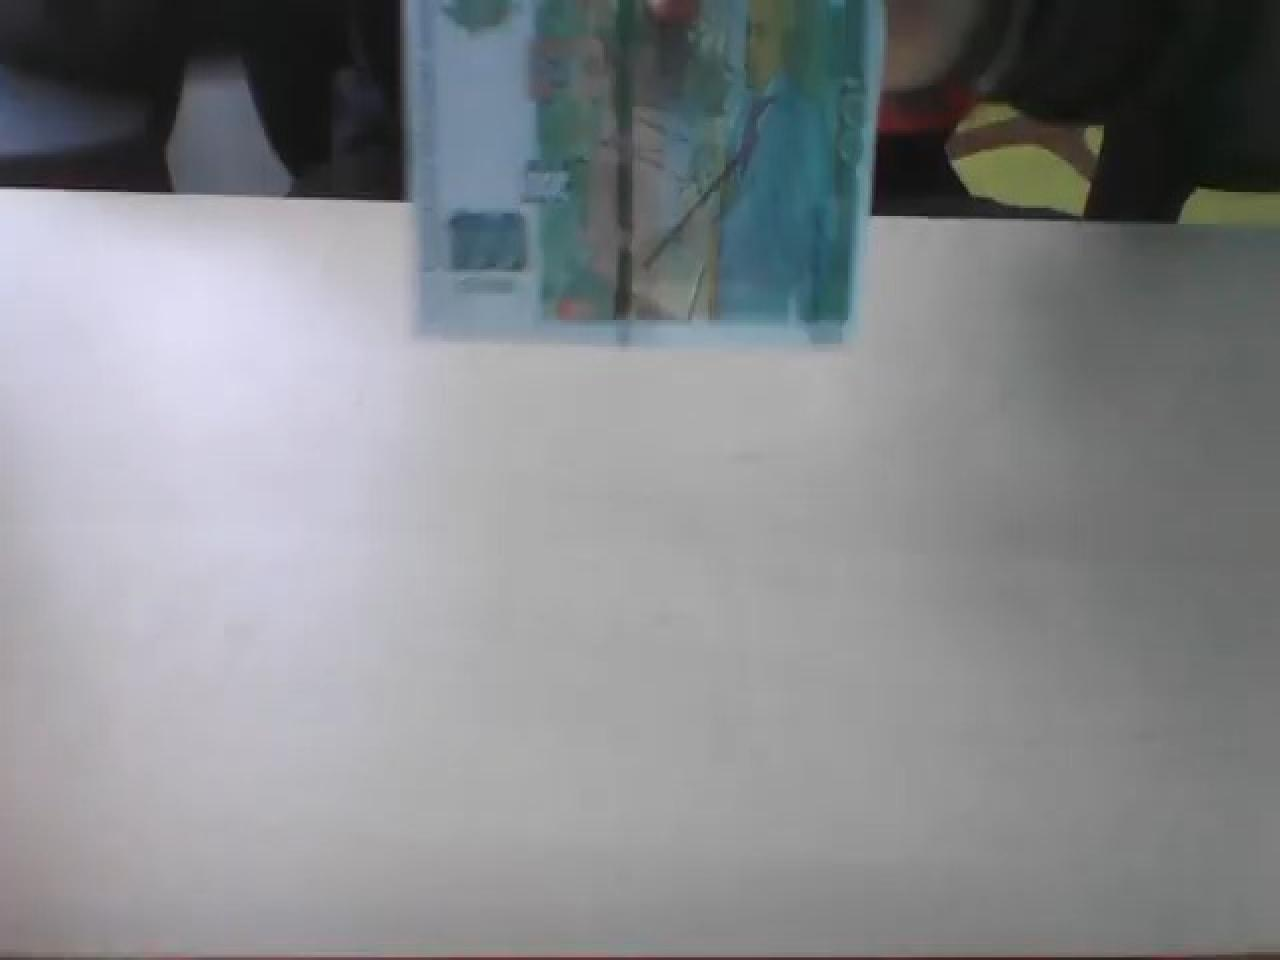100leva: (402, 0, 886, 347)
